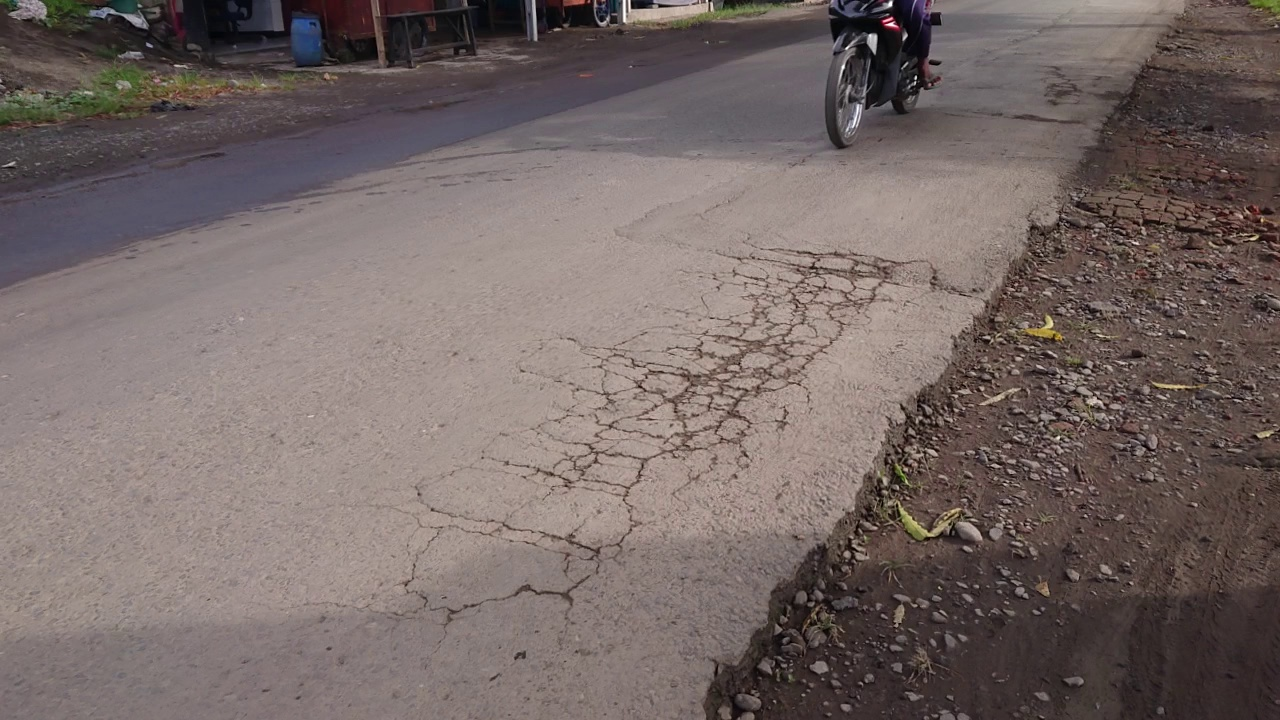Retak: (447, 252, 886, 633)
